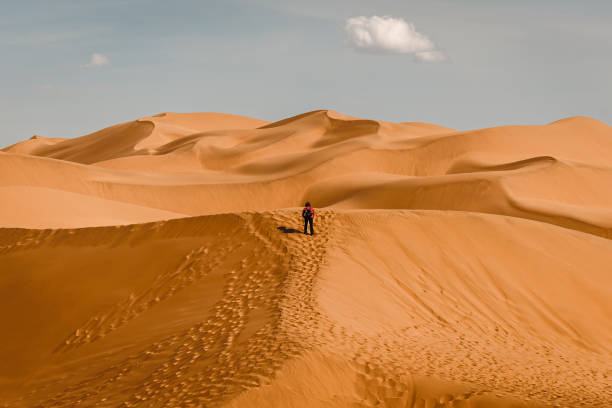human_footprint: (151, 237, 338, 407), (128, 268, 276, 398), (350, 336, 593, 407)
